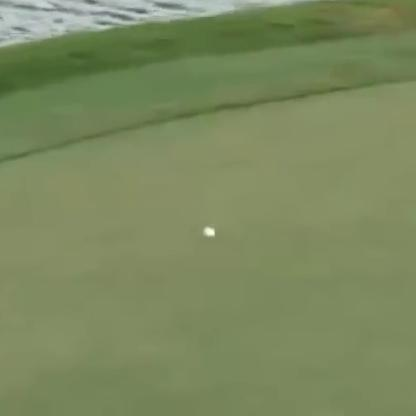golfball: (200, 224, 216, 237)
